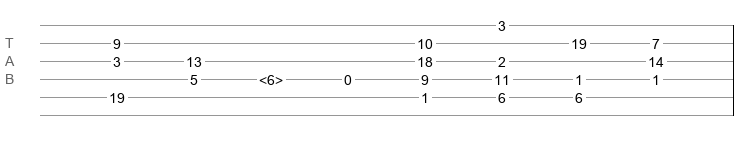0: (344, 72, 352, 82)
1: (421, 90, 429, 100), (575, 72, 583, 82), (652, 72, 660, 82)
10: (417, 36, 433, 46)
11: (494, 72, 510, 82)
13: (186, 54, 202, 64)
14: (648, 54, 664, 64)
18: (417, 54, 433, 64)
19: (109, 90, 125, 100), (571, 36, 587, 46)
2: (498, 54, 506, 64)
3: (113, 54, 121, 64), (498, 18, 506, 28)
5: (190, 72, 198, 82)
6: (498, 90, 506, 100), (575, 90, 583, 100)
7: (652, 36, 660, 46)
9: (113, 36, 121, 46), (421, 72, 429, 82)
harmonic: (259, 72, 283, 82)
